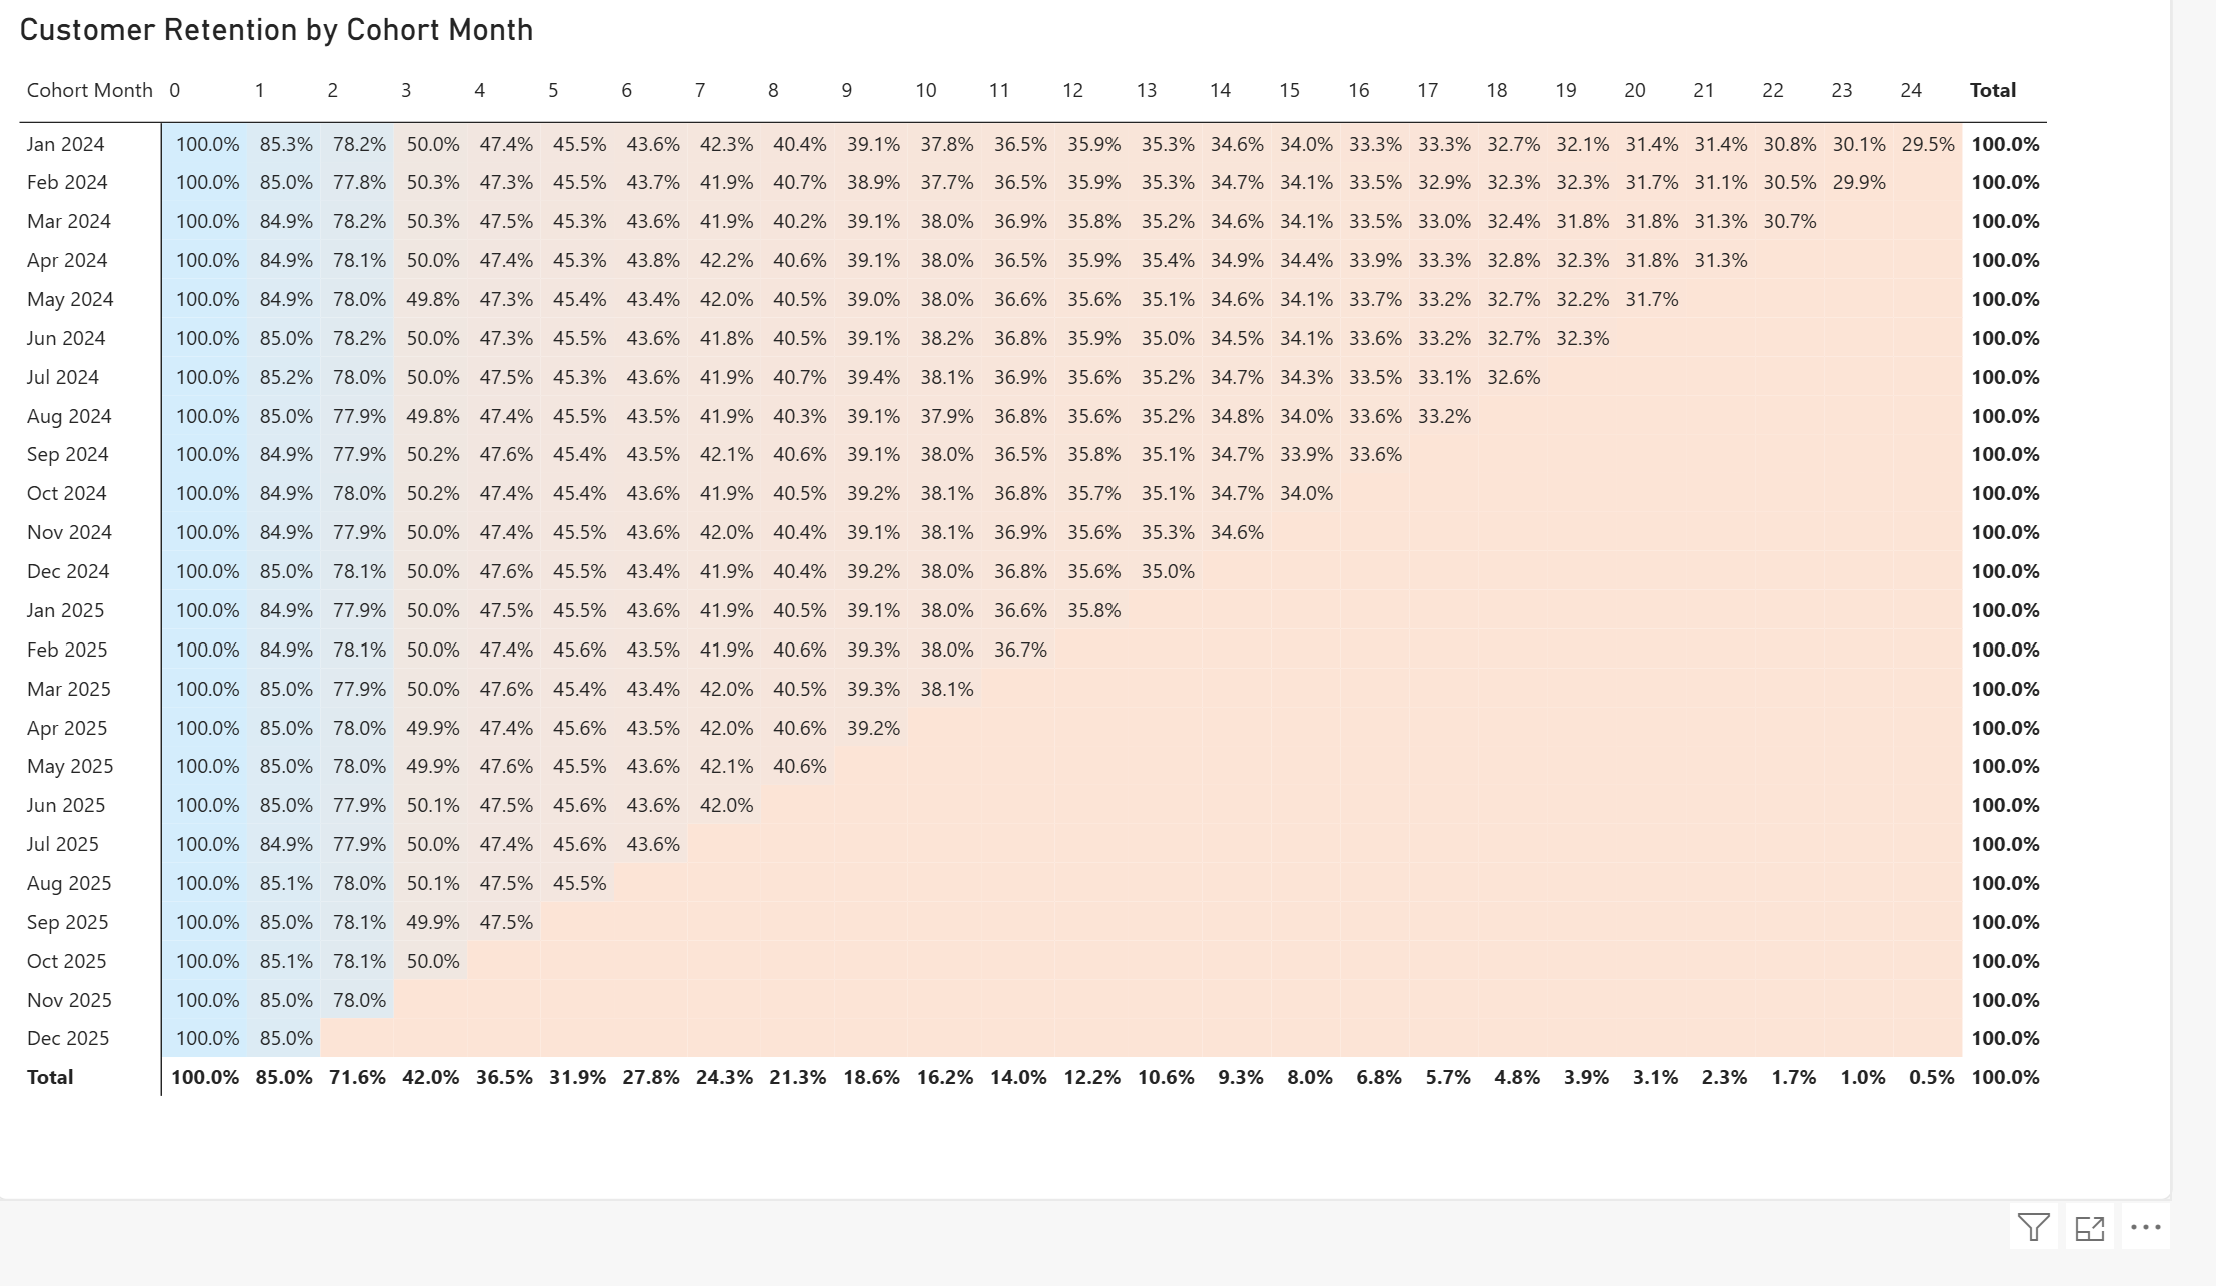

The page's visual inventory and layout, read from the dashboard file:
{"tool":"powerbi","page":{"name":"Customer Cohort","canvas":[1920,1080],"ordinal":0},"visuals":[{"type":"pivotTable","title":"Customer Retention by Cohort Month","fields":{"Columns":["transactions.Months Since Start"],"Values":["transactions.Retention %"],"Rows":["transactions.Cohort Month"]},"box":[9.9,0,1512,839.8],"z":0}]}

Visuals, with their boxes on the page's 1920x1080 design canvas (x1, y1, x2, y2). These are canvas units, not pixel positions in the 2216x1286 screenshot, which may show the page scaled, cropped or inside an application window:
"Customer Retention by Cohort Month" pivotTable: bbox=(10, 0, 1522, 840)
